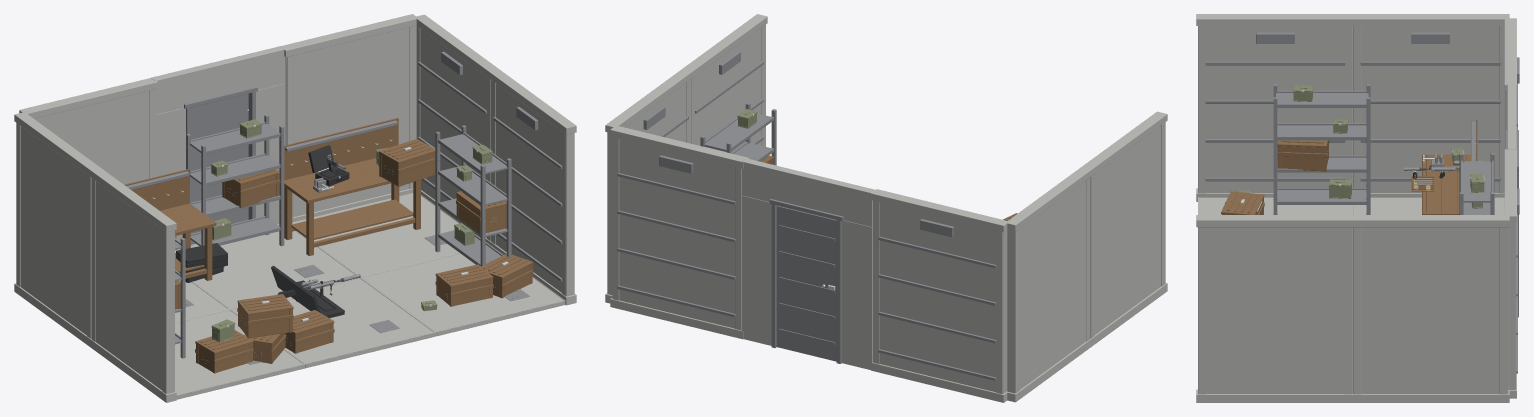
File: mega-weapon-pack-gunsmith-workshop-b8bacf99__33459.glb
The picture shows the model from 3 angles, left to right: view 1: azimuth 30°, elevation 25°; view 2: azimuth 150°, elevation 25°; view 3: azimuth 270°, elevation 25°; orthographic projection. The views are drawn at different scales.
Parts seen in each view (by area): view 1: 011-armoury-wall-panel/0, 008-armoury-wall-panel/0, 009-armoury-wall-panel/0, 012-armoury-wall-panel/0, 022-gunsmith-bench/0, 007-armoury-door/0, 006-armoury-wall-panel/0, 010-armoury-wall-panel/0, 005-armoury-floor-tile/0, 003-armoury-floor-tile/0, 002-armoury-floor-tile/0, 045-armoury-shelf-unit/0 (+28 smaller); view 2: 006-armoury-wall-panel/0, 008-armoury-wall-panel/0, 009-armoury-wall-panel/0, 011-armoury-wall-panel/0, 007-armoury-door/0, 007-armoury-door/door-main/alloyDark, 012-armoury-wall-panel/0, 010-armoury-wall-panel/0, 008-armoury-wall-panel/1, 006-armoury-wall-panel/1, 007-armoury-door/1, 040-armoury-shelf-unit/0 (+1 smaller); view 3: 010-armoury-wall-panel/0, 012-armoury-wall-panel/0, 009-armoury-wall-panel/0, 011-armoury-wall-panel/0, 035-armoury-shelf-unit/0, 008-armoury-wall-panel/0, 009-armoury-wall-panel/1, 011-armoury-wall-panel/1, 013-gunsmith-bench/0, 045-armoury-shelf-unit/0, 001-armoury-floor-tile/0, 000-armoury-floor-tile/0 (+10 smaller).
Part boxes in pixels (x1=…): 011-armoury-wall-panel/0: x1=89, y1=167, x2=176, y2=402; 008-armoury-wall-panel/0: x1=282, y1=14, x2=417, y2=222; 009-armoury-wall-panel/0: x1=14, y1=112, x2=100, y2=347; 012-armoury-wall-panel/0: x1=490, y1=70, x2=576, y2=305; 022-gunsmith-bench/0: x1=284, y1=118, x2=420, y2=255; 007-armoury-door/0: x1=151, y1=46, x2=285, y2=241; 006-armoury-wall-panel/0: x1=19, y1=78, x2=157, y2=184; 010-armoury-wall-panel/0: x1=415, y1=14, x2=500, y2=244; 005-armoury-floor-tile/0: x1=361, y1=253, x2=565, y2=336; 003-armoury-floor-tile/0: x1=231, y1=277, x2=435, y2=368; 002-armoury-floor-tile/0: x1=175, y1=224, x2=356, y2=308; 045-armoury-shelf-unit/0: x1=186, y1=114, x2=284, y2=247; 006-armoury-wall-panel/0: x1=871, y1=189, x2=1008, y2=402; 008-armoury-wall-panel/0: x1=610, y1=125, x2=748, y2=339; 009-armoury-wall-panel/0: x1=1007, y1=166, x2=1092, y2=402; 011-armoury-wall-panel/0: x1=1081, y1=111, x2=1167, y2=345; 007-armoury-door/0: x1=742, y1=158, x2=876, y2=369; 007-armoury-door/door-main/alloyDark: x1=776, y1=205, x2=836, y2=361; 012-armoury-wall-panel/0: x1=681, y1=14, x2=767, y2=152; 010-armoury-wall-panel/0: x1=605, y1=70, x2=692, y2=303; 008-armoury-wall-panel/1: x1=617, y1=155, x2=735, y2=317; 006-armoury-wall-panel/1: x1=878, y1=219, x2=996, y2=380; 007-armoury-door/1: x1=769, y1=199, x2=843, y2=363; 040-armoury-shelf-unit/0: x1=700, y1=102, x2=776, y2=165; 010-armoury-wall-panel/0: x1=1351, y1=215, x2=1509, y2=402; 012-armoury-wall-panel/0: x1=1196, y1=215, x2=1354, y2=402; 009-armoury-wall-panel/0: x1=1351, y1=14, x2=1509, y2=197; 011-armoury-wall-panel/0: x1=1196, y1=14, x2=1354, y2=201; 035-armoury-shelf-unit/0: x1=1273, y1=84, x2=1370, y2=214; 008-armoury-wall-panel/0: x1=1504, y1=149, x2=1516, y2=398; 009-armoury-wall-panel/1: x1=1360, y1=32, x2=1500, y2=181; 011-armoury-wall-panel/1: x1=1205, y1=32, x2=1345, y2=181; 013-gunsmith-bench/0: x1=1422, y1=119, x2=1477, y2=214; 045-armoury-shelf-unit/0: x1=1459, y1=153, x2=1494, y2=214; 001-armoury-floor-tile/0: x1=1198, y1=197, x2=1352, y2=214; 000-armoury-floor-tile/0: x1=1353, y1=197, x2=1504, y2=214.
Bounding box in the file's own units: 6.29 × 2.6 × 4.17.
